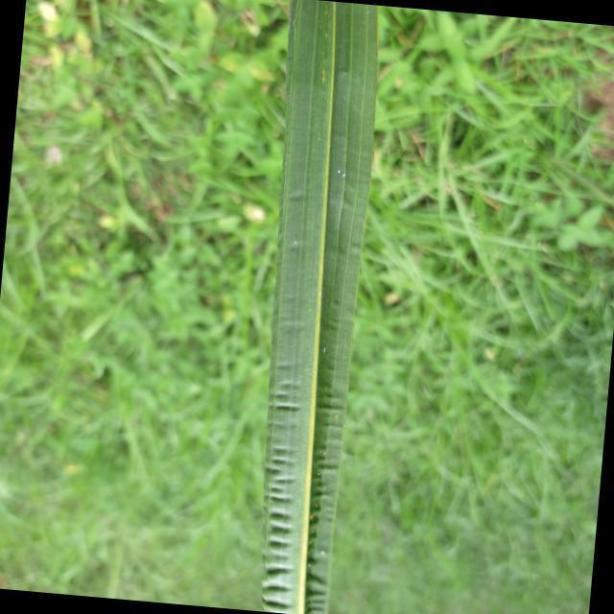Boron: (267, 0, 382, 614)
